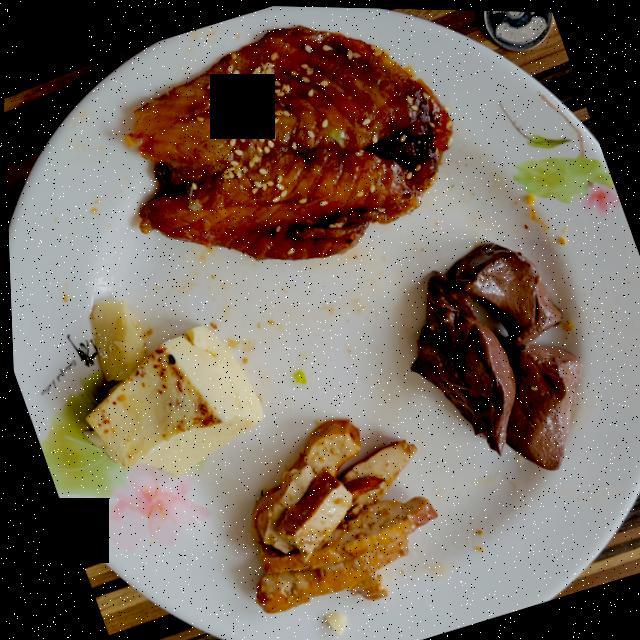Kabayaki sea bream fillet: (124, 24, 451, 258)
coin: (484, 8, 552, 48)
pig blood curd: (447, 240, 578, 467), (408, 268, 513, 452)
